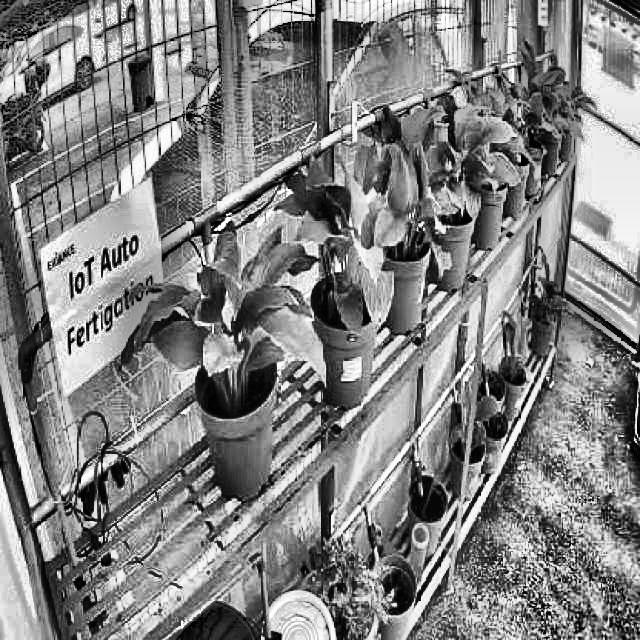plants: (121, 220, 324, 398), (286, 158, 392, 338), (395, 89, 528, 218), (344, 133, 452, 284)
